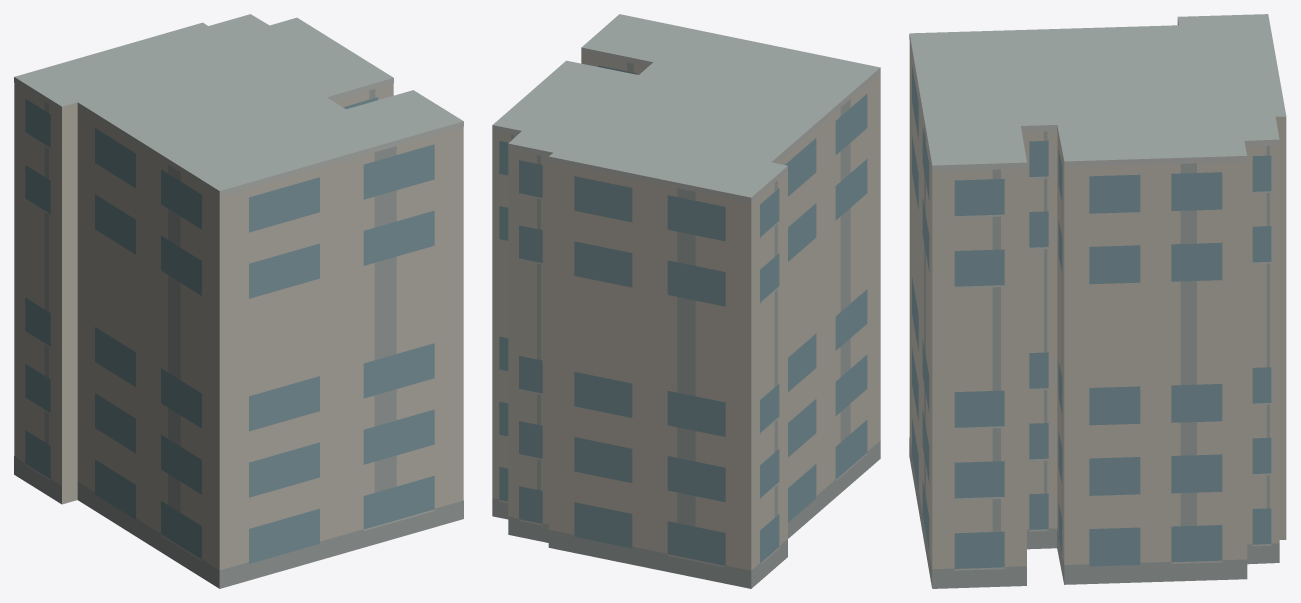
The model's file is survey-upis-32492939.glb.
3 renders of one model, left to right at view 1: azimuth 30°, elevation 25°; view 2: azimuth 150°, elevation 25°; view 3: azimuth 270°, elevation 25°, orthographic. The views are drawn at different scales.
Parts seen in each view (by area): view 1: survey-upis-32492939.tmp; view 2: survey-upis-32492939.tmp; view 3: survey-upis-32492939.tmp.
Part boxes in pixels (x1=…): survey-upis-32492939.tmp: x1=14, y1=14, x2=463, y2=588; survey-upis-32492939.tmp: x1=492, y1=14, x2=880, y2=588; survey-upis-32492939.tmp: x1=909, y1=14, x2=1286, y2=588.
Bounding box in the file's own units: 13.25 × 17.25 × 13.93.
